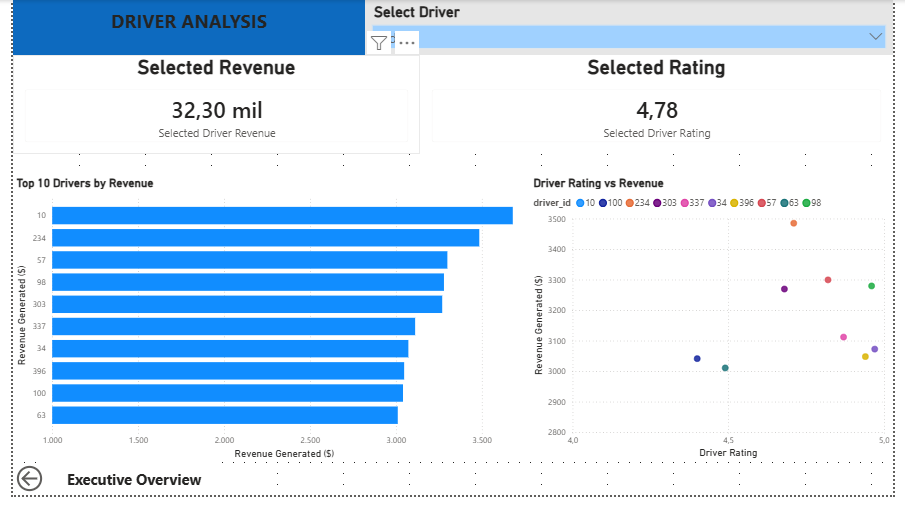

This screenshot's page, from the dashboard's own definition file:
{"tool":"powerbi","page":{"name":"Driver Analysis","canvas":[1280,720],"ordinal":1},"visuals":[{"type":"clusteredBarChart","title":"Top 10 Drivers by Revenue","fields":{"Category":["6_driver_revenue.driver_id"],"Y":["Sum(6_driver_revenue.total_revenue)"]},"box":[0,256,752,416],"z":0},{"type":"scatterChart","title":"Driver Rating vs Revenue","fields":{"X":["Sum(7_driver_rating_vs_revenue.driver_rating)"],"Y":["7_driver_rating_vs_revenue.total_revenue"],"Series":["7_driver_rating_vs_revenue.driver_id"]},"box":[752,256,528,416],"z":1000},{"type":"actionButton","box":[0,672,224,48],"z":2000},{"type":"textbox","box":[0,0,512,80],"z":3000},{"type":"slicer","fields":{"Values":["DimDriver.driver_id"]},"box":[512,0,768,80],"z":4000},{"type":"cardVisual","title":"Selected Revenue","fields":{"Data":["10_high_demand_zones.Selected Driver Revenue"]},"box":[0,80,592,144],"z":5000},{"type":"cardVisual","title":"Selected Rating","fields":{"Data":["10_high_demand_zones.Selected Driver Rating"]},"box":[592,80,688,144],"z":6000},{"type":"textbox","box":[48,672,256,48],"z":7000}]}

Visuals, with their boxes in screenshot pixels (x1, y1, x2, y2), scaled from the page's 1280x720 canvas onto the 905x507 screenshot:
"Top 10 Drivers by Revenue" clusteredBarChart: select_region(0, 180, 532, 473)
"Driver Rating vs Revenue" scatterChart: select_region(532, 180, 904, 473)
actionButton: select_region(0, 473, 158, 506)
textbox: select_region(0, 0, 362, 56)
slicer - DimDriver.driver_id: select_region(362, 0, 904, 56)
"Selected Revenue" cardVisual: select_region(0, 56, 419, 158)
"Selected Rating" cardVisual: select_region(419, 56, 904, 158)
textbox: select_region(34, 473, 215, 506)
